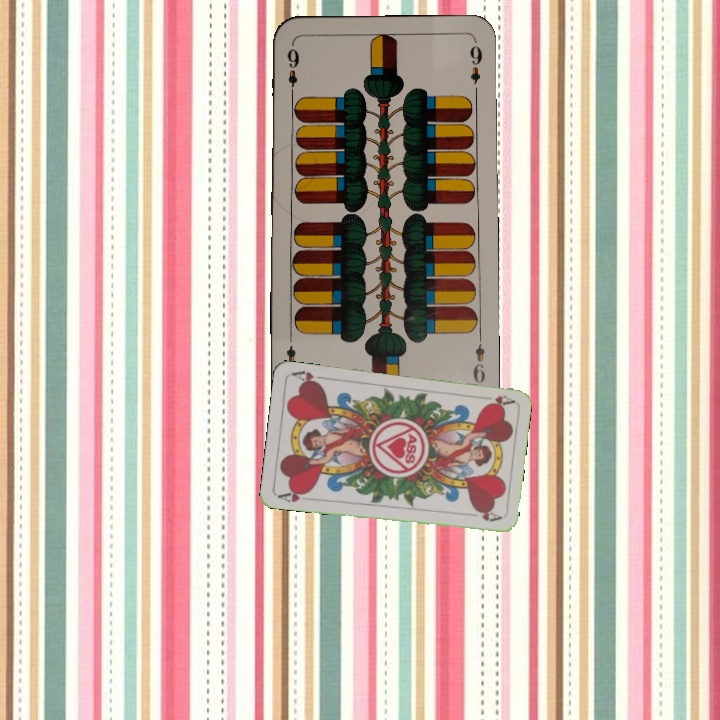E9: (469, 330, 488, 389), (283, 41, 301, 100)
HA: (274, 486, 315, 506), (475, 391, 516, 408)
